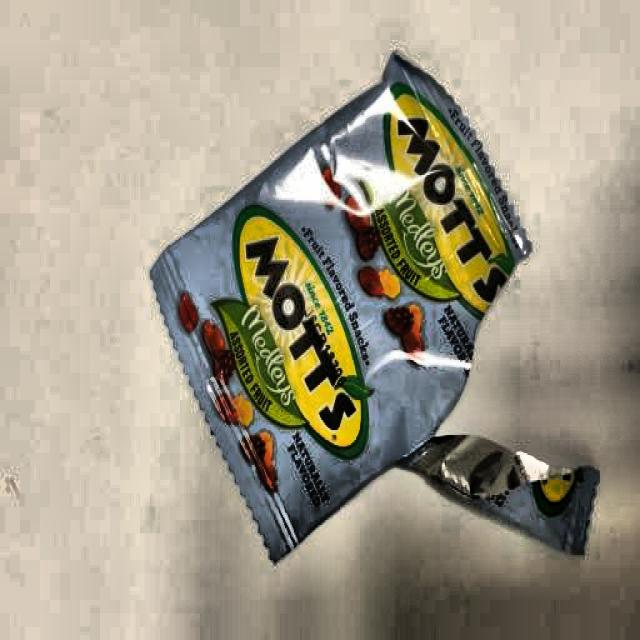trash: (149, 54, 603, 587)
